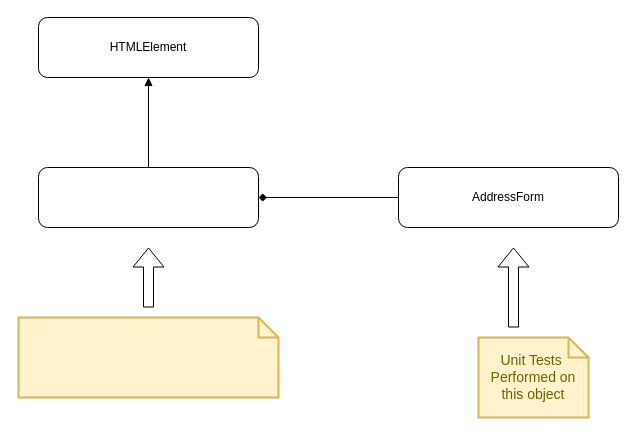
This 636x436 diagram has some shape labels left out. The centre of each missing label's shape, as x and y in pixels:
"AddressFormComponent" goes at pixel 148 197.
"Simple shell object to build the web component using the AddressForm object" goes at pixel 148 357.
